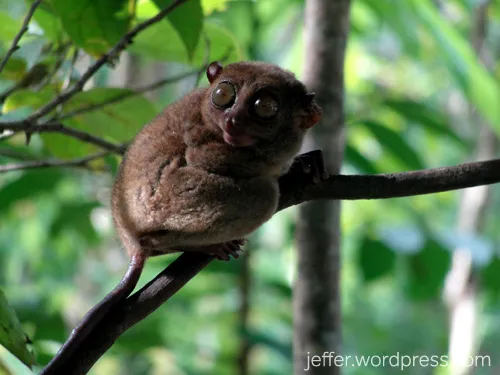tarsier: (106, 55, 321, 263)
